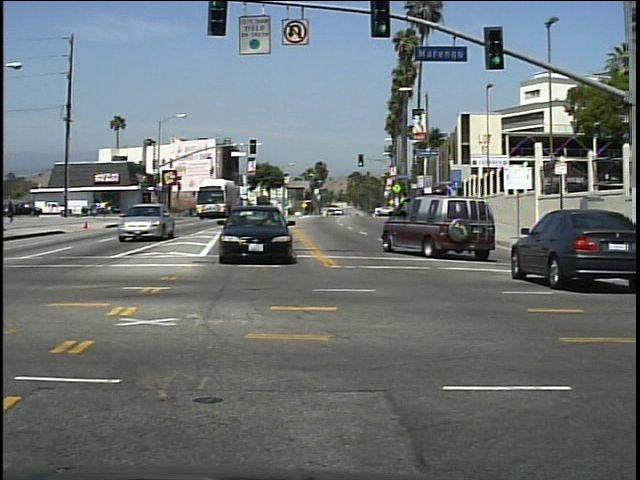person: (5, 198, 22, 227)
